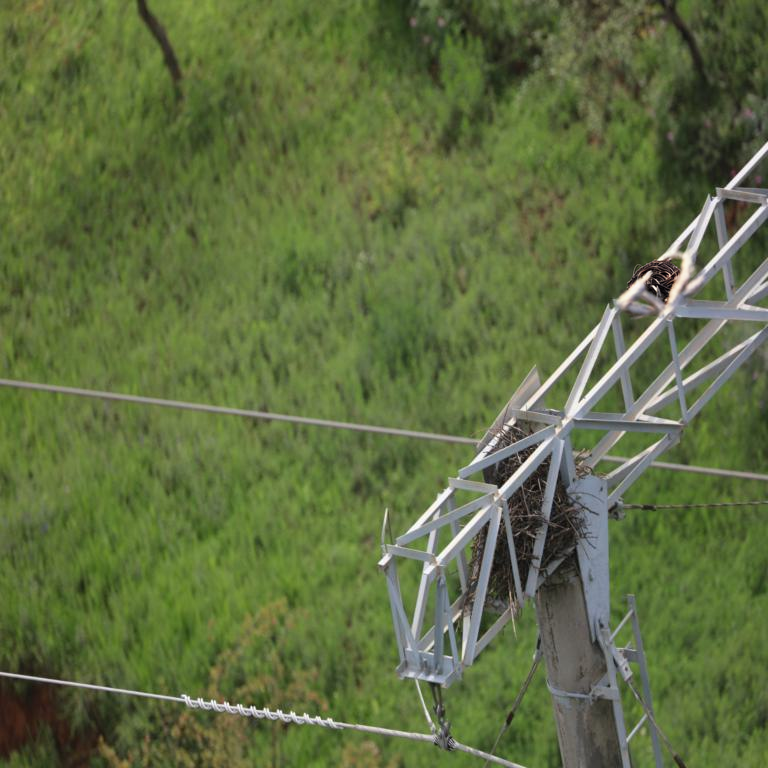nest: (471, 431, 569, 614), (630, 261, 681, 304)
